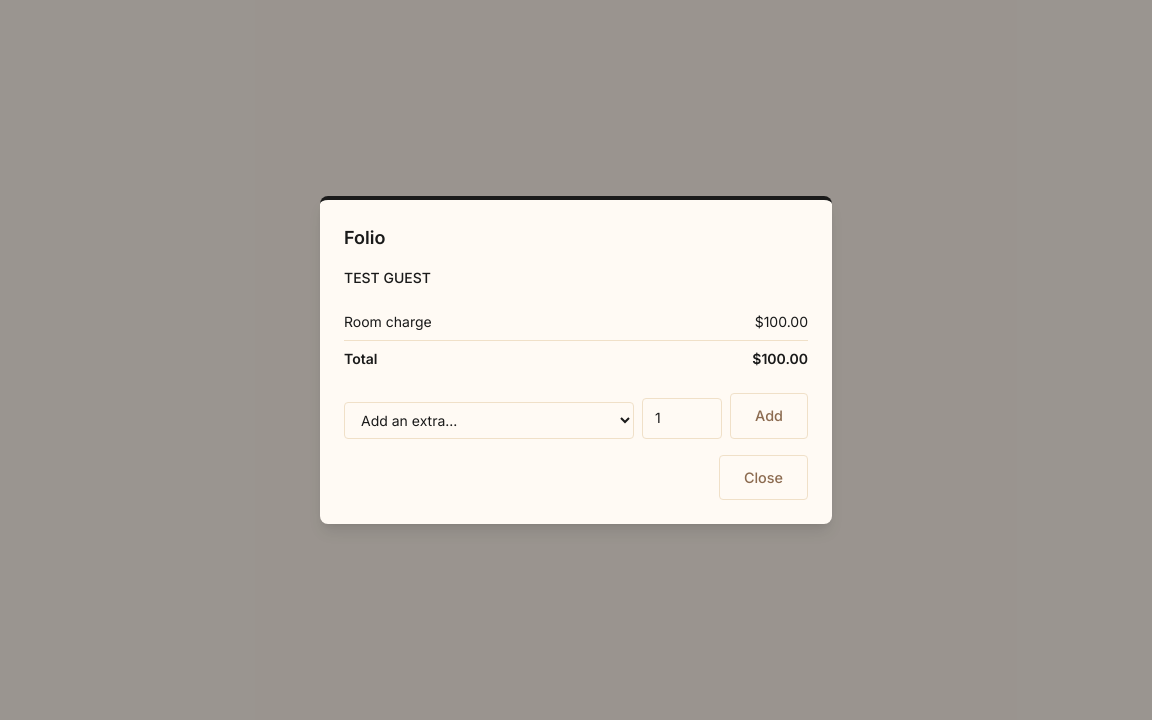
it: FolioModal - open folio, adding extras › shows a generic error when addFolioItem fails for a reason other than a closed folio
Expected: the text "Room charge" is shown, [344,304,628,340]
Select "Late Checkout ($15.00)" in the dropdown: (489, 420) [344,402,634,438]
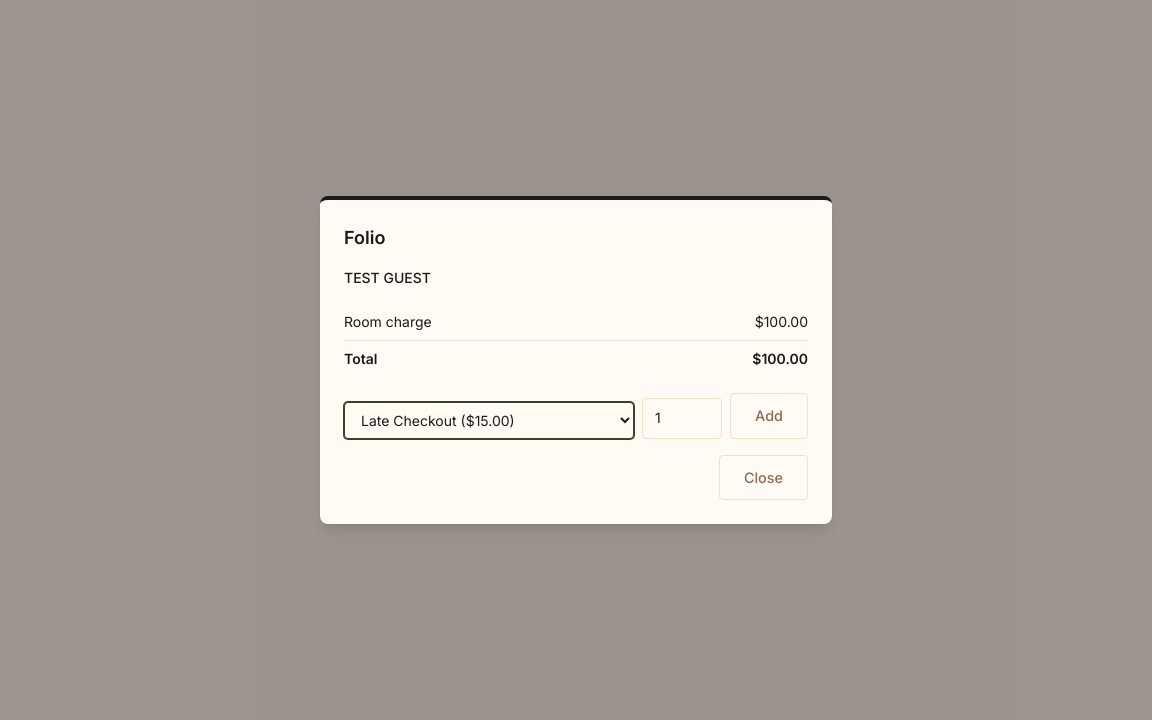
Click the button "Add": click(769, 416) [730,393,808,438]
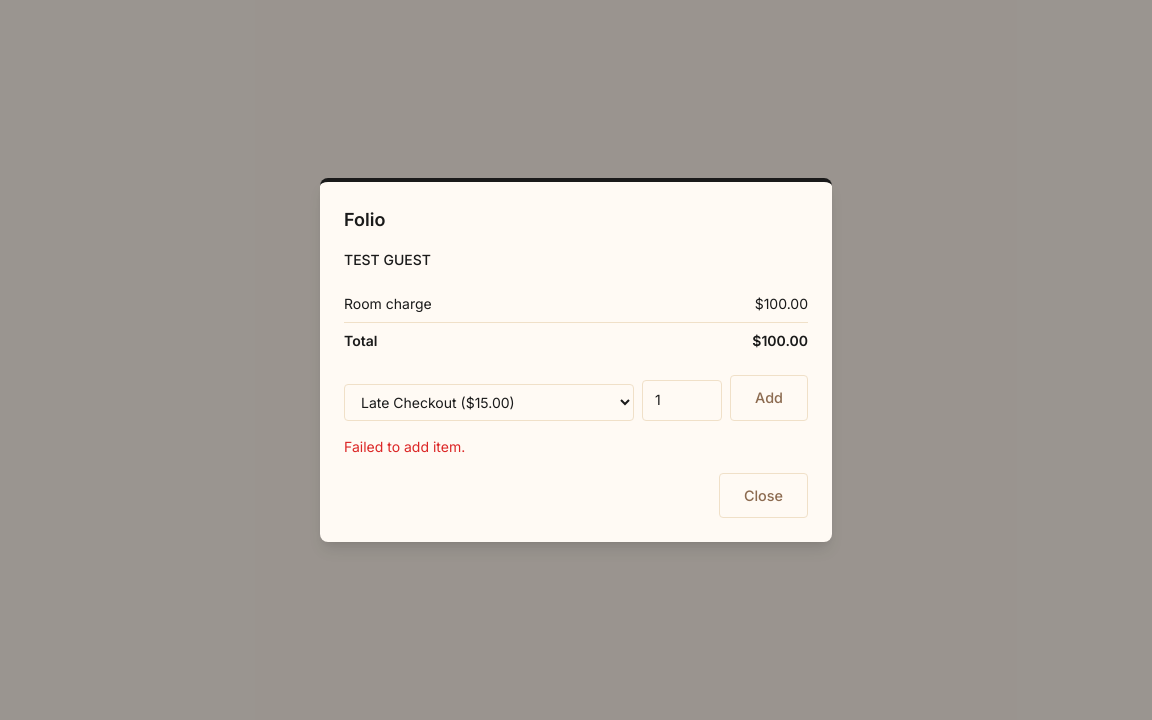
Now the text "Failed to add item." is shown, box [344,438,465,454]
